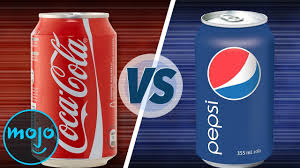Coca-Cola: (24, 10, 125, 167)
Pepsi: (194, 11, 274, 166)
